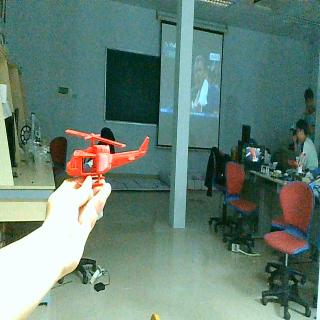Helicopter: (64, 126, 150, 188)
